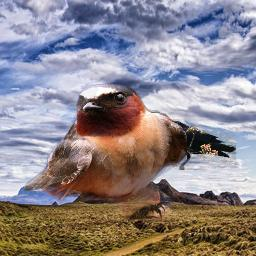Crow: (159, 119, 236, 170)
Swallow: (24, 84, 187, 220)
